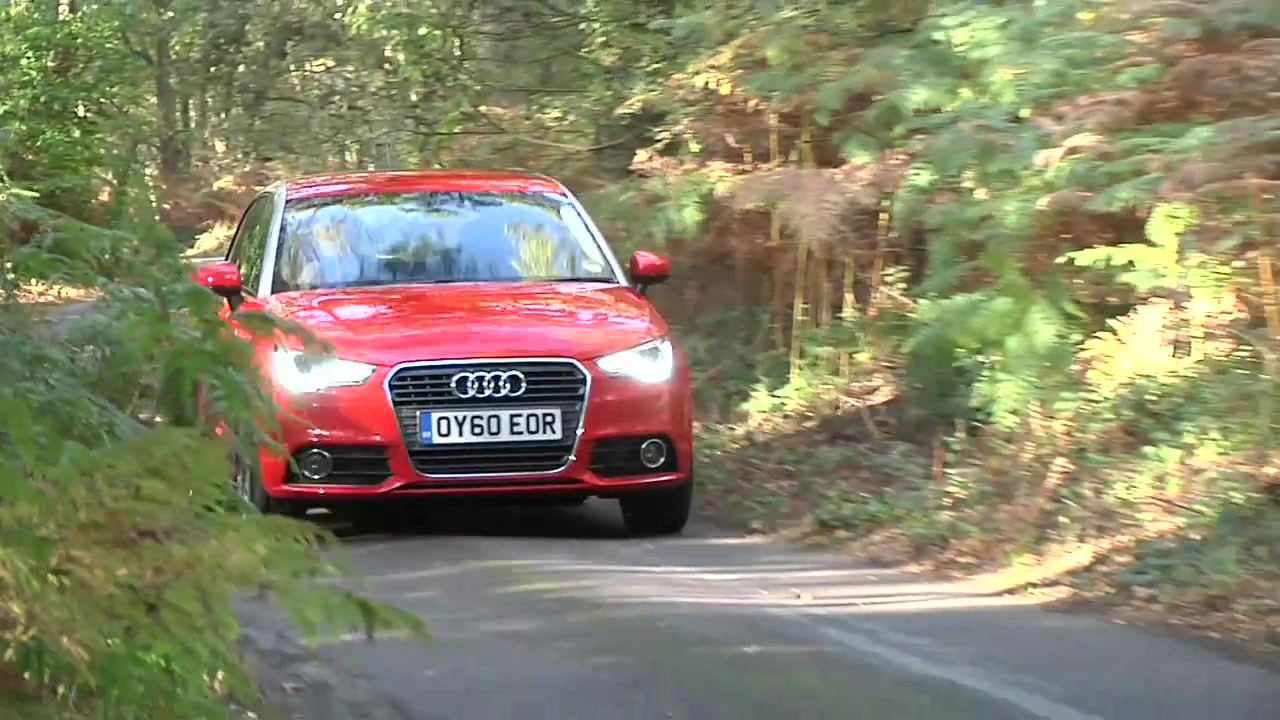car: (177, 163, 703, 543)
